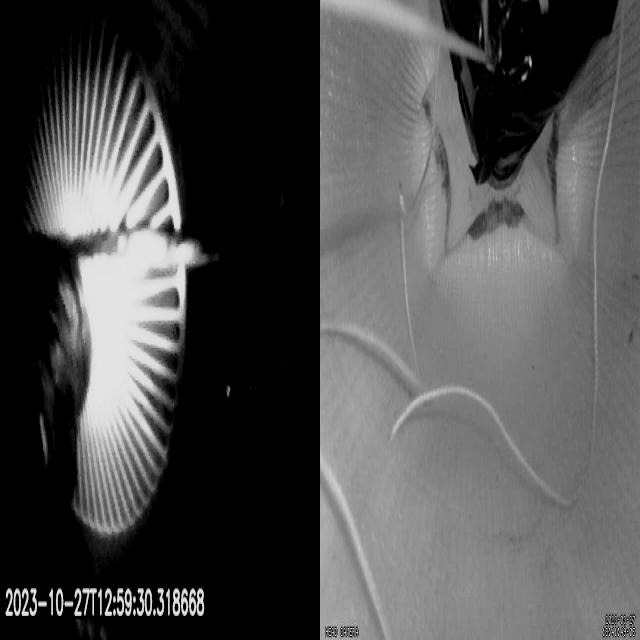red-circle: (423, 100, 562, 242)
